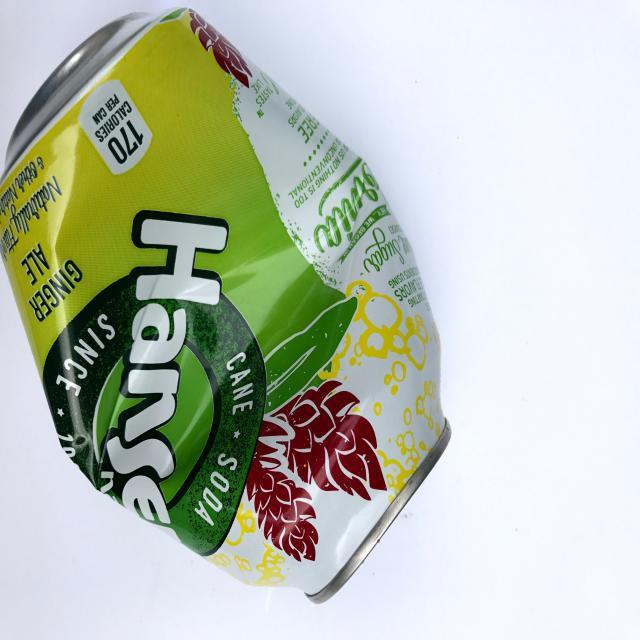metal: (2, 7, 456, 603)
